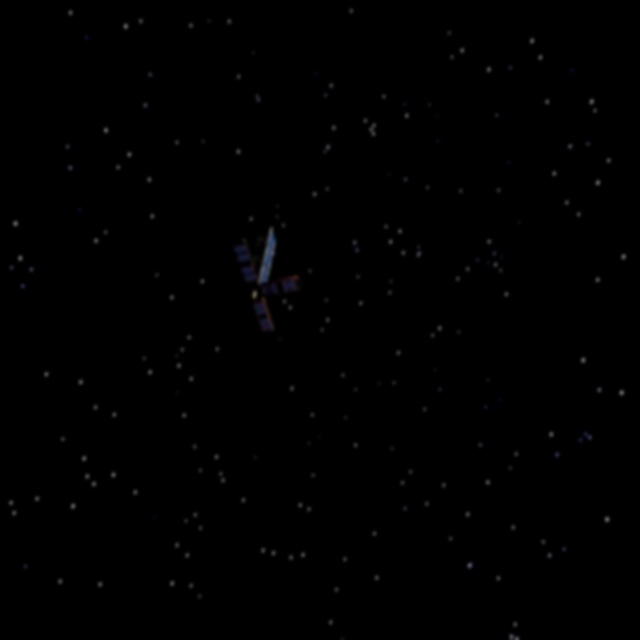medium_debris: (211, 221, 305, 348)
